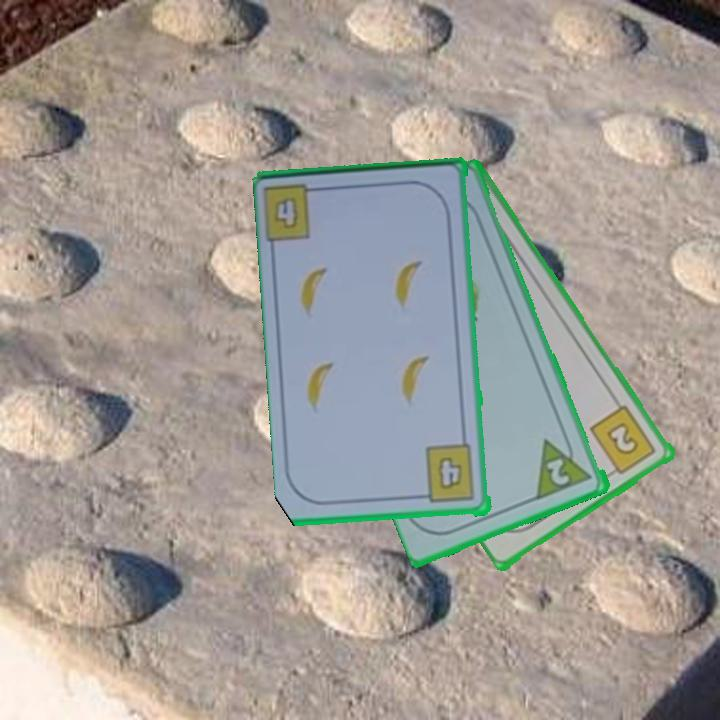2b: (587, 402, 660, 478)
2p: (533, 429, 596, 503)
4b: (262, 181, 328, 245), (416, 442, 479, 506)
